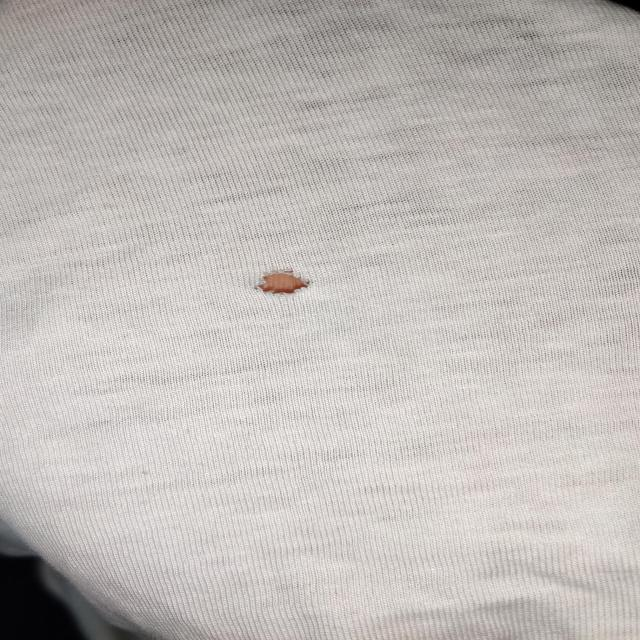Hole: (256, 270, 307, 293)
